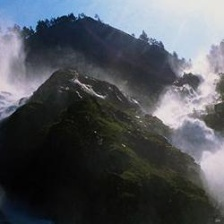neutral: (1, 4, 224, 210)
